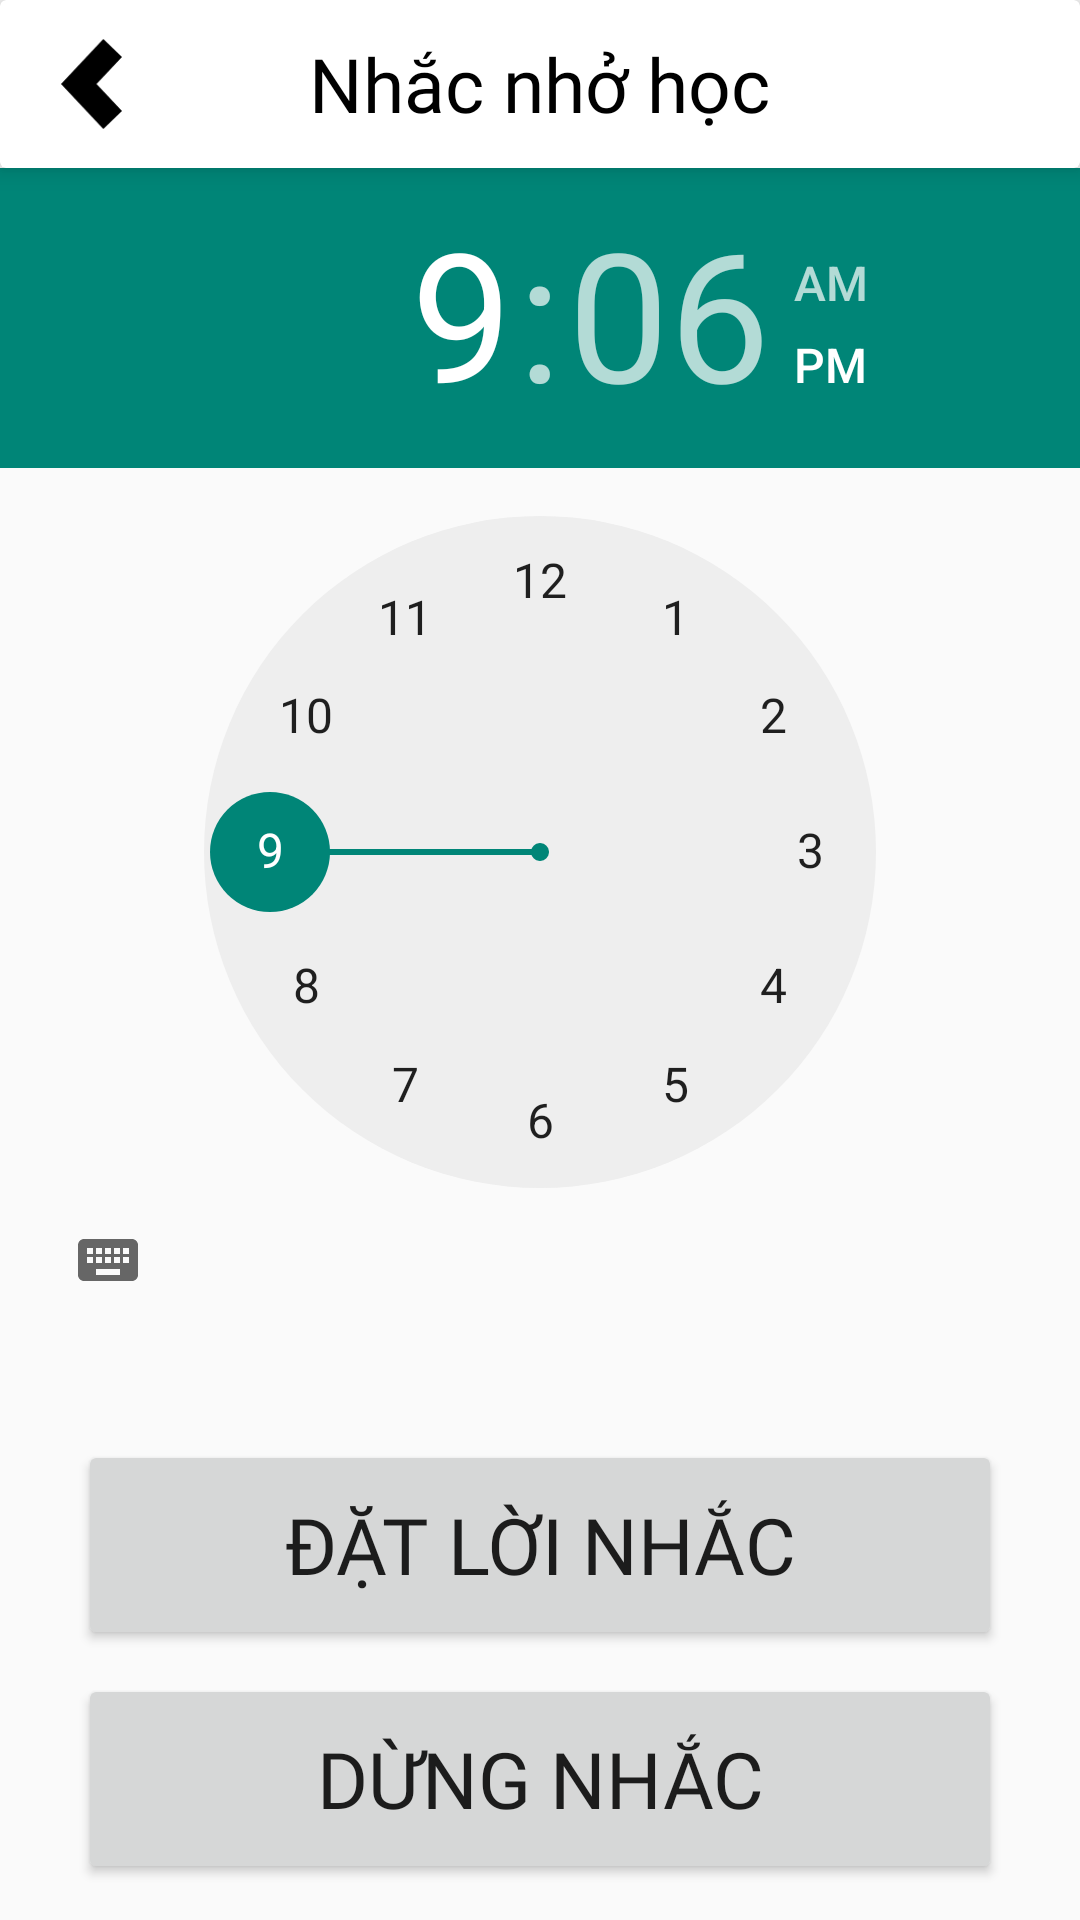

Icon bounding boxes for this 1080px x 1920px phone screenshot, format BBox(x1, y1, x2, y2):
back: BBox(61, 39, 122, 129)
